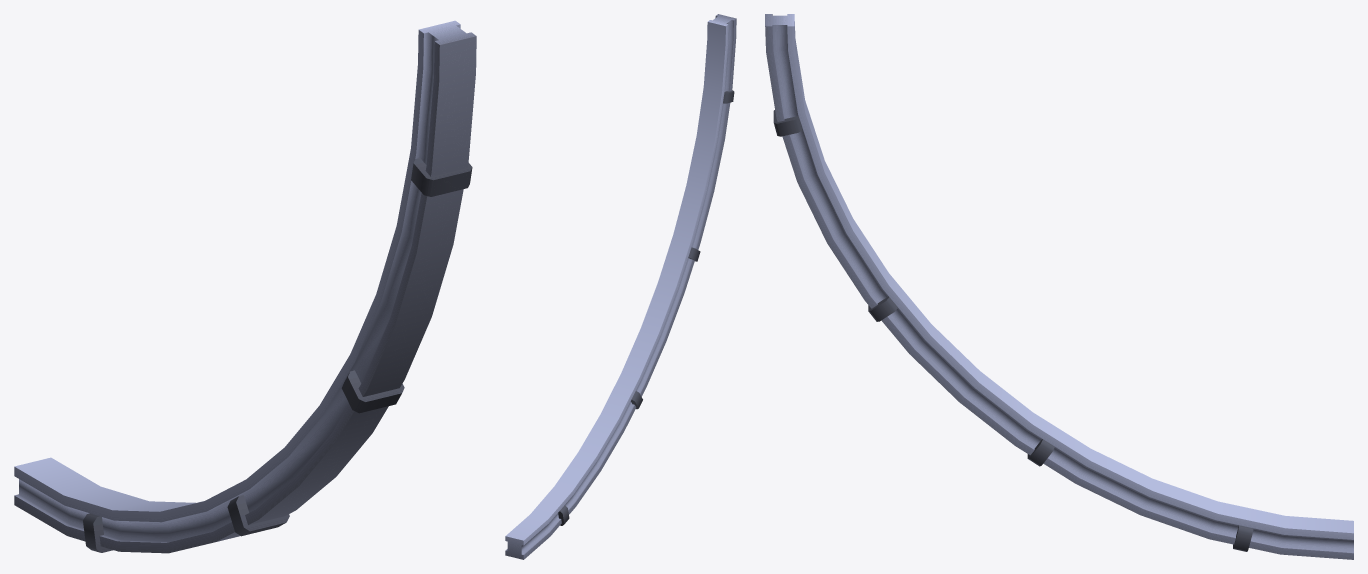
The model's file is coaster-monorail-straight-bend-large.glb.
3 renders of one model, left to right at view 1: azimuth 30°, elevation 25°; view 2: azimuth 150°, elevation 25°; view 3: azimuth 270°, elevation 25°, orthographic. The views are drawn at different scales.
Parts seen in each view (by area): view 1: coaster-monorail-straight-bend-large; view 2: coaster-monorail-straight-bend-large; view 3: coaster-monorail-straight-bend-large.
Boxes of the visible parts, <box> form: coaster-monorail-straight-bend-large: <box>14,20,476,553</box>; coaster-monorail-straight-bend-large: <box>505,14,736,559</box>; coaster-monorail-straight-bend-large: <box>765,14,1353,559</box>.
Bounding box in the file's own units: 0.25 × 4 × 4.
1 material, 1 textured.
